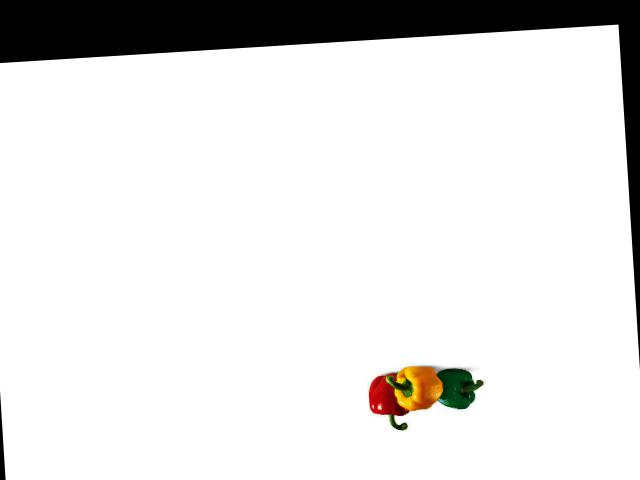bell_pepper: (430, 362, 483, 414)
